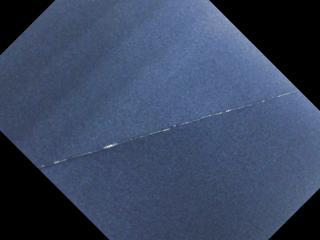crack: (34, 91, 299, 170)
